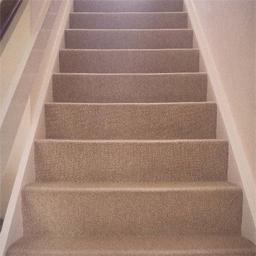Escaleras: (1, 2, 254, 250)
